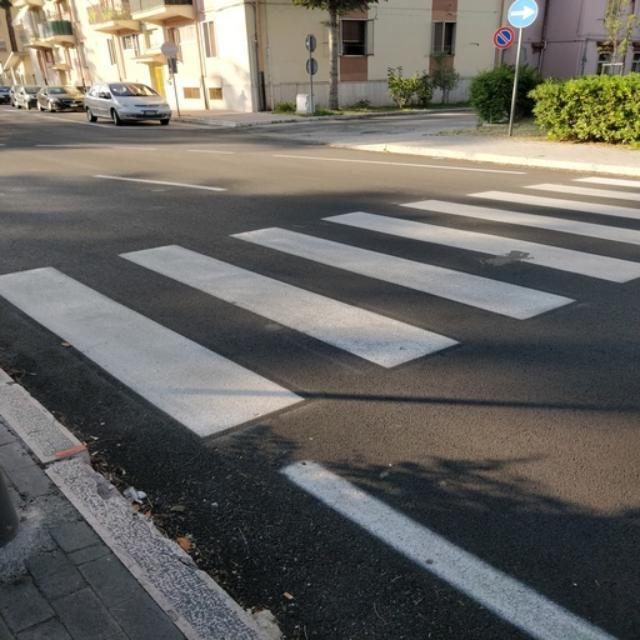sidewalk: (0, 175, 640, 440)
